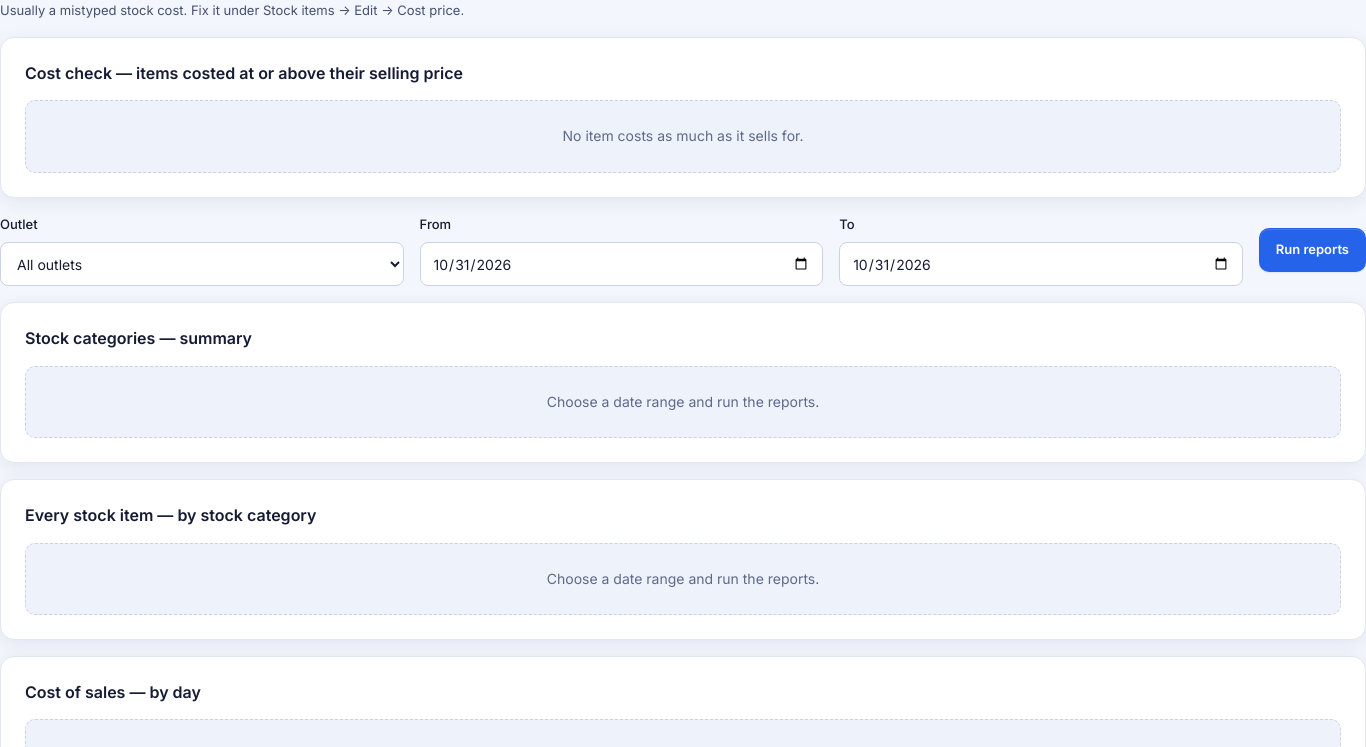
it: <StockReportsTab> › every category and item, and the movement history (gap closure) › shows every category (even an empty one and Uncategorized) and every item — including one that never sold
Click the button "Run reports" at (1312, 250), box [1259,228,1365,272]
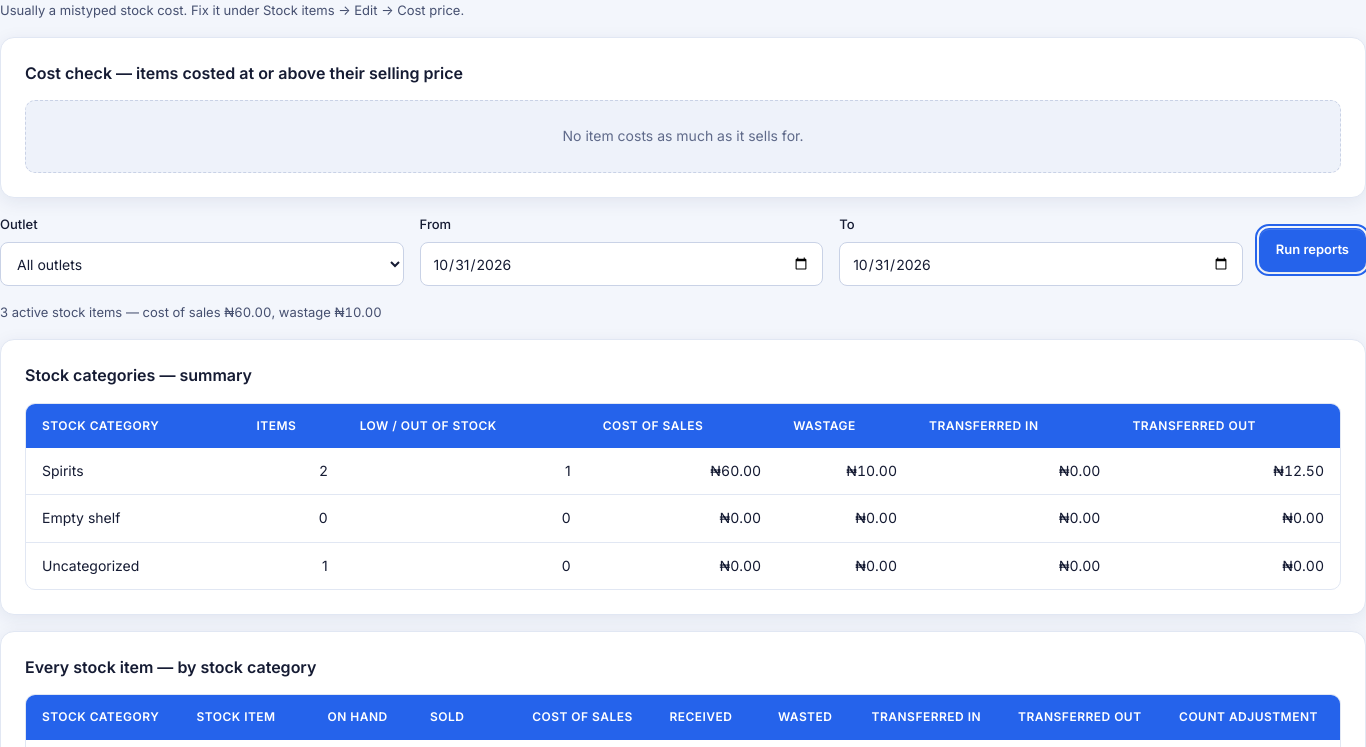
Check: the text "Spirits" in the row of "₦12.50" is shown, box [42,462,84,479]
Check: the text "Empty shelf" is shown, box [26,495,240,542]
Check: the text "Uncategorized" is shown, box [26,542,240,589]
